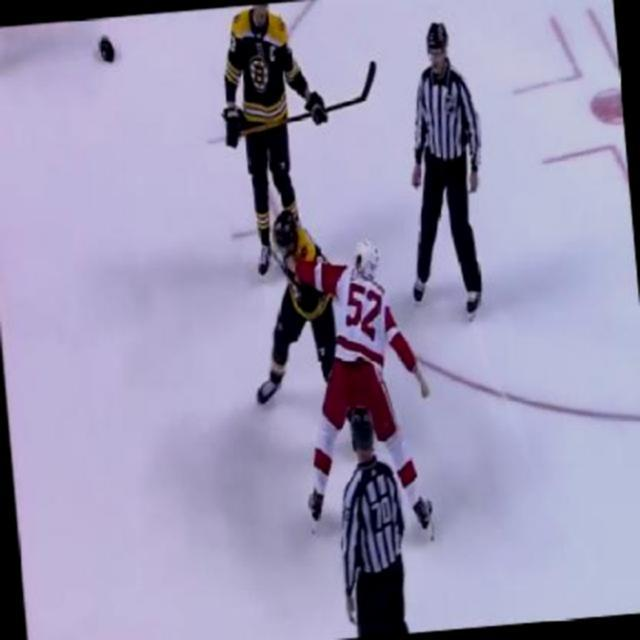fight: (240, 205, 437, 548)
